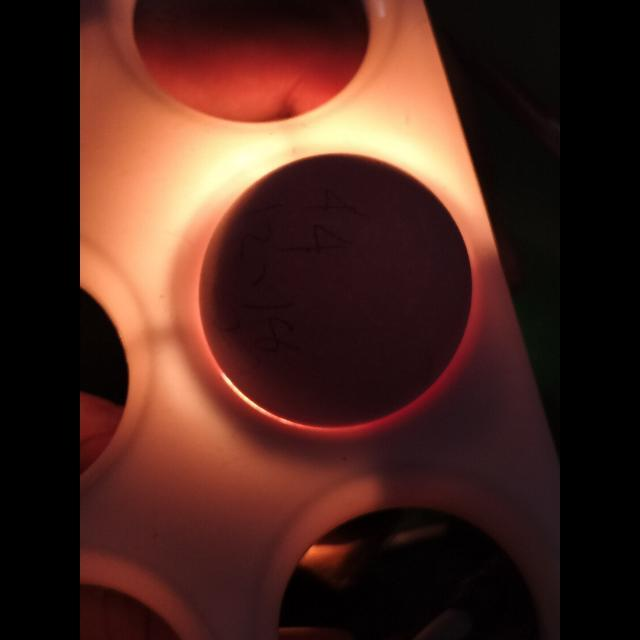Fertile: (199, 156, 479, 416)
